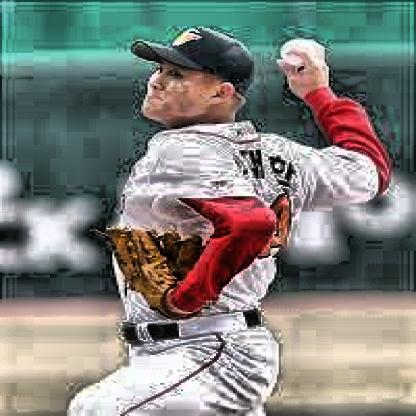baseball: (281, 36, 328, 80)
